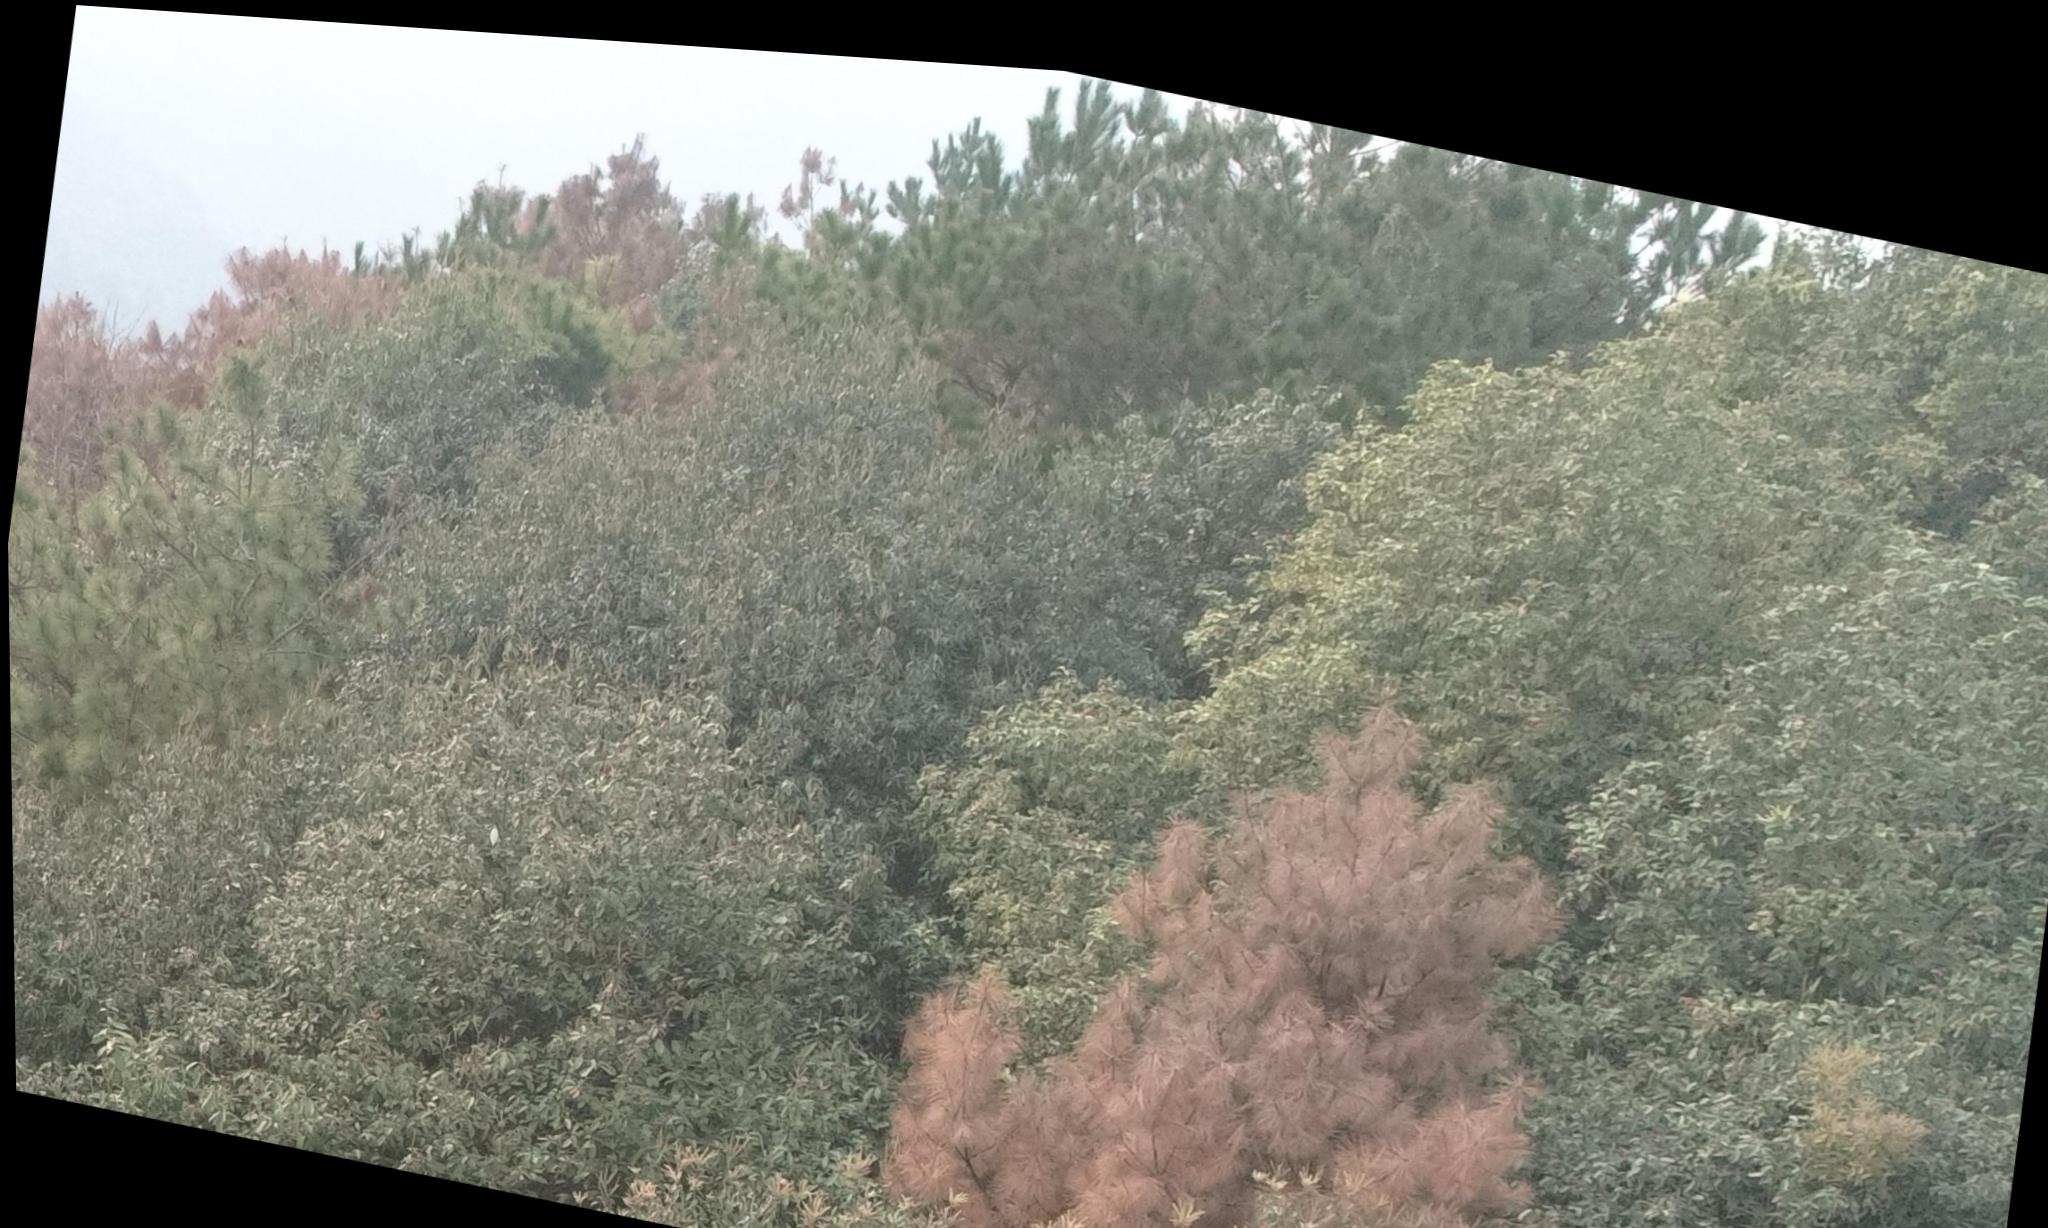heavy: (868, 595, 1640, 1228)
